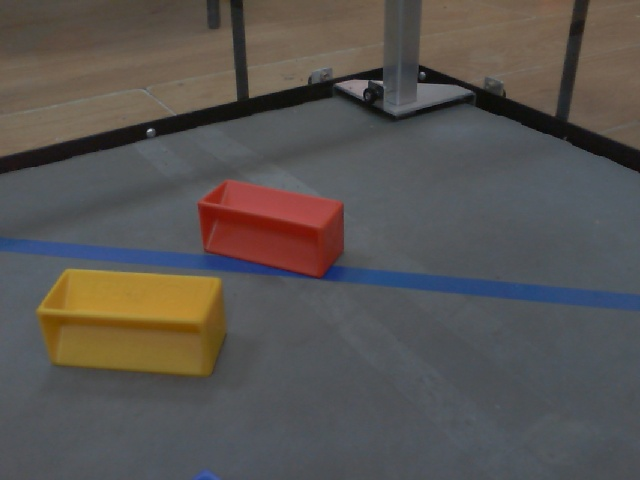RedSample: (193, 174, 347, 281)
YellowSample: (36, 263, 231, 376)
